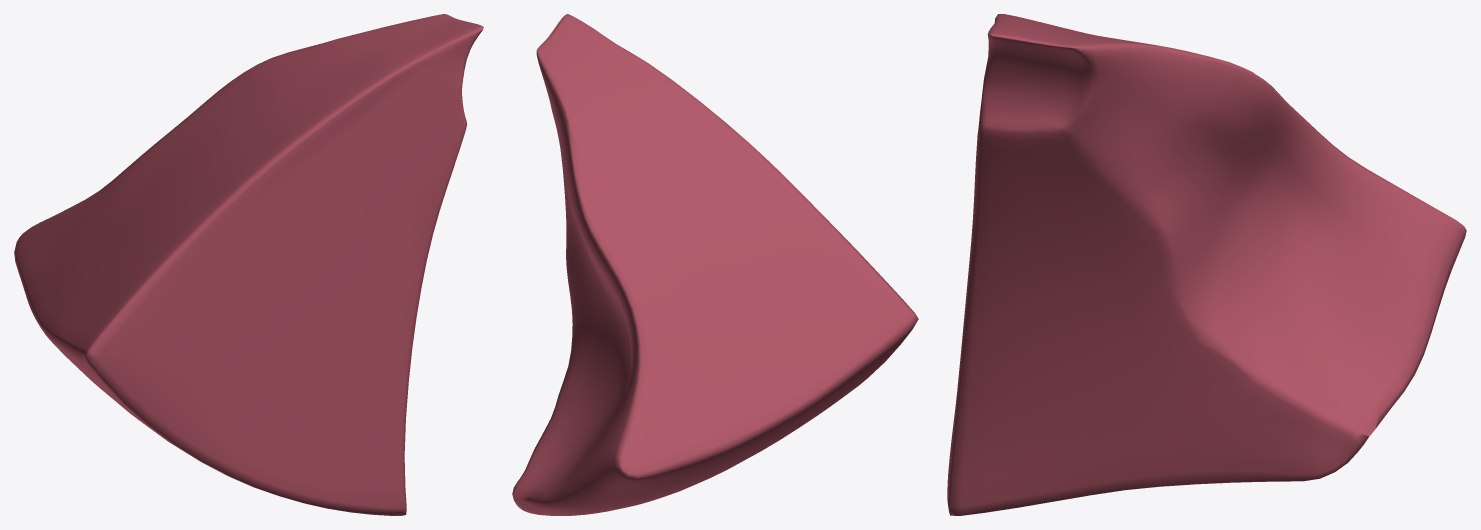
The picture shows the model from 3 angles, left to right: view 1: azimuth 30°, elevation 25°; view 2: azimuth 150°, elevation 25°; view 3: azimuth 270°, elevation 25°; orthographic projection. The views are drawn at different scales.
Parts seen in each view (by area): view 1: 肝右前叶下段（第5段）; view 2: 肝右前叶下段（第5段）; view 3: 肝右前叶下段（第5段）.
Part boxes in pixels (box(x1,y1,x2,y2)): 肝右前叶下段（第5段）: box(14, 14, 483, 515); 肝右前叶下段（第5段）: box(512, 14, 918, 515); 肝右前叶下段（第5段）: box(947, 14, 1466, 515).
Bounding box in the file's own units: 0.1119 × 0.1231 × 0.108.
